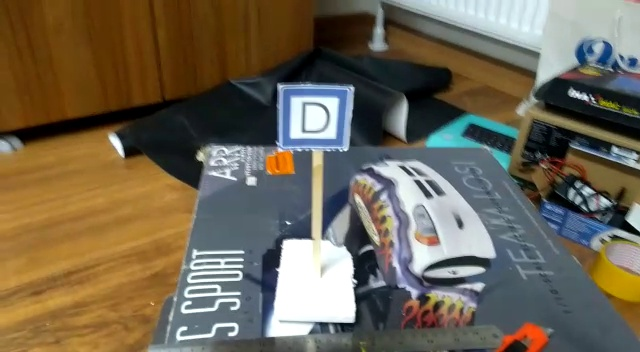durak: (274, 78, 349, 150)
